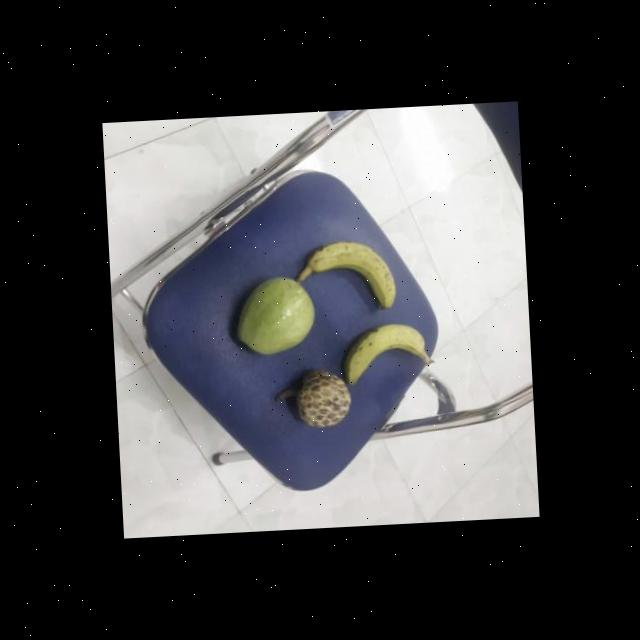Sakya fruit: (289, 366, 352, 430)
banana: (304, 234, 396, 316), (342, 318, 430, 386)
guava: (232, 272, 317, 356)
